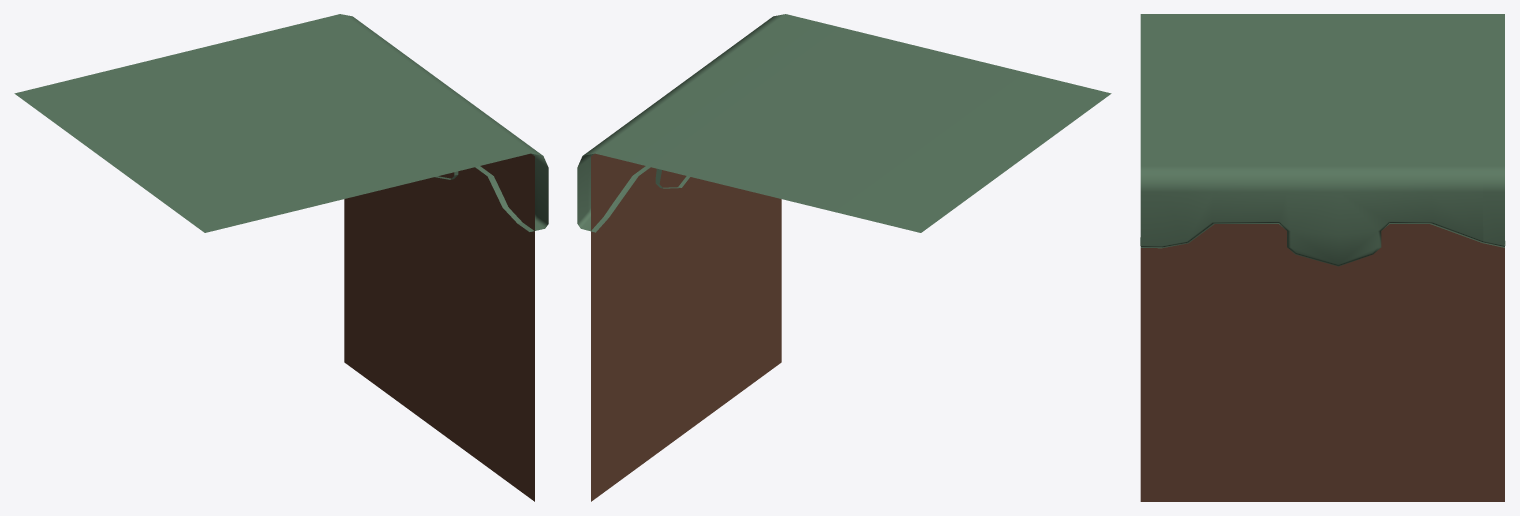
The model's file is Costado_frontal.fbx.
3 views of the same model, side by side, from view 1: azimuth 30°, elevation 25°; view 2: azimuth 150°, elevation 25°; view 3: azimuth 270°, elevation 25° (orthographic). The views are drawn at different scales.
Parts seen in each view (by area): view 1: polySurface5, pCube10; view 2: polySurface5, pCube10; view 3: pCube10, polySurface5.
Part boxes in pixels (x1,y1,x2,y2): polySurface5: (14, 14, 548, 232); pCube10: (344, 153, 534, 501); polySurface5: (577, 14, 1111, 232); pCube10: (591, 153, 781, 501); pCube10: (1140, 224, 1504, 501); polySurface5: (1140, 14, 1505, 266).
Bounding box in the file's own units: 1.04 × 1.01 × 1.
